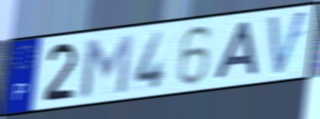2: (42, 41, 79, 104)
4: (132, 30, 166, 91)
6: (174, 23, 215, 88)
A: (212, 19, 260, 82)
M: (79, 32, 136, 100)
V: (267, 7, 310, 79)
